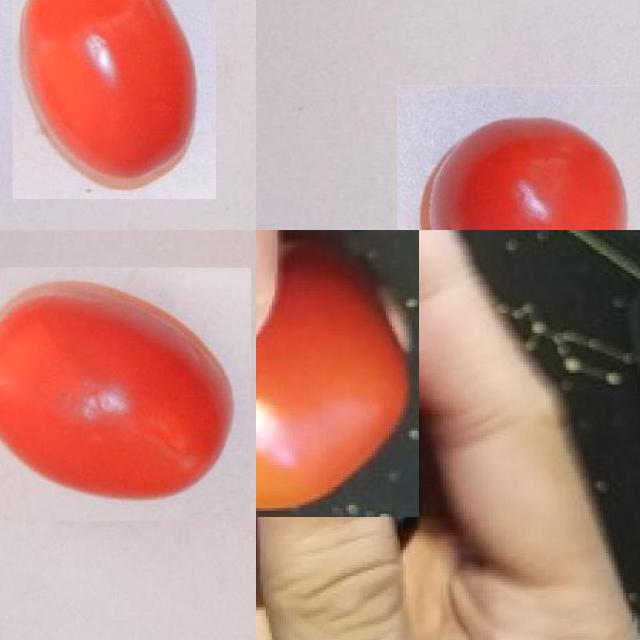0: (256, 230, 419, 517)
Fresh Tomato: (0, 267, 251, 521), (11, 0, 216, 199), (397, 85, 640, 230)
